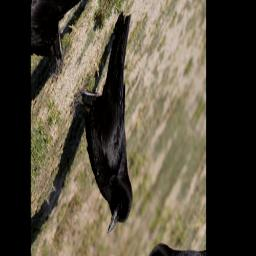Crow: (52, 0, 184, 248)
